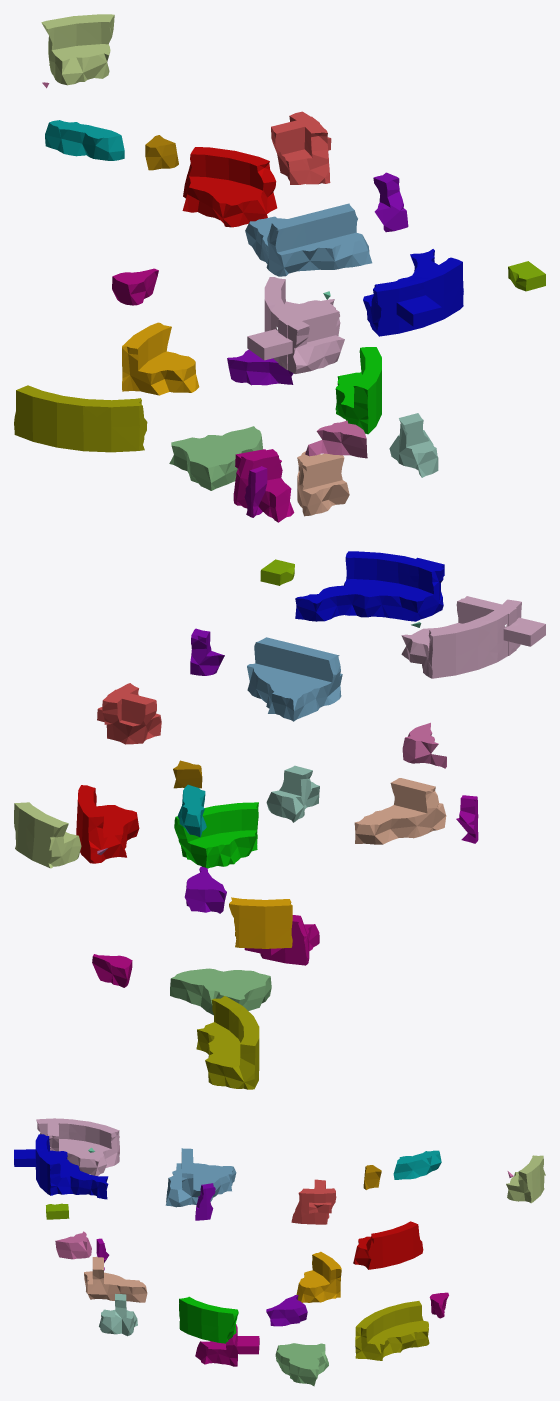
The model's file is fractured_66_23pcs_transformed.glb.
3 views of the same model, one above another, from view 1: azimuth 30°, elevation 25°; view 2: azimuth 150°, elevation 25°; view 3: azimuth 270°, elevation 25° (orthographic). The views are drawn at different scales.
Parts seen in each view (by area): view 1: piece_11.obj, piece_2.obj, piece_9.obj, piece_6.obj, piece_10.obj, piece_5.obj, piece_0.obj, piece_3.obj, piece_1.obj, piece_8.obj, piece_7.obj, piece_15.obj (+9 smaller); view 2: piece_10.obj, piece_6.obj, piece_2.obj, piece_11.obj, piece_8.obj, piece_7.obj, piece_3.obj, piece_9.obj, piece_5.obj, piece_0.obj, piece_1.obj, piece_4.obj (+9 smaller); view 3: piece_11.obj, piece_6.obj, piece_10.obj, piece_2.obj, piece_9.obj, piece_8.obj, piece_3.obj, piece_0.obj, piece_7.obj, piece_1.obj, piece_15.obj, piece_5.obj (+8 smaller).
Boxes of the visible parts, x1,y1,x2,y2 form: piece_11.obj: (14,385,147,452); piece_2.obj: (245,203,372,276); piece_9.obj: (182,147,277,227); piece_6.obj: (247,277,344,373); piece_10.obj: (363,249,463,336); piece_5.obj: (41,14,114,85); piece_0.obj: (122,322,199,395); piece_3.obj: (169,426,262,490); piece_1.obj: (271,111,331,184); piece_8.obj: (335,347,381,434); piece_7.obj: (297,451,349,516); piece_15.obj: (233,449,294,522); piece_10.obj: (295,551,444,621); piece_6.obj: (401,596,545,678); piece_2.obj: (247,637,342,721); piece_11.obj: (196,996,259,1089); piece_8.obj: (174,802,258,868); piece_7.obj: (354,778,446,844); piece_3.obj: (170,968,271,1015); piece_9.obj: (76,785,139,863); piece_5.obj: (14,802,81,868); piece_0.obj: (229,897,292,948); piece_1.obj: (97,683,161,744); piece_4.obj: (266,765,319,822); piece_11.obj: (355,1301,429,1360); piece_6.obj: (36,1118,119,1175); piece_10.obj: (14,1134,108,1199); piece_2.obj: (165,1148,236,1207); piece_9.obj: (353,1221,423,1269); piece_8.obj: (179,1296,238,1343); piece_3.obj: (275,1343,328,1386); piece_0.obj: (296,1251,341,1302); piece_7.obj: (84,1256,147,1302); piece_1.obj: (291,1179,336,1224); piece_15.obj: (195,1324,259,1366); piece_5.obj: (506,1155,545,1203).
Bounding box in the file's own units: 1 × 1.11 × 2.39.
